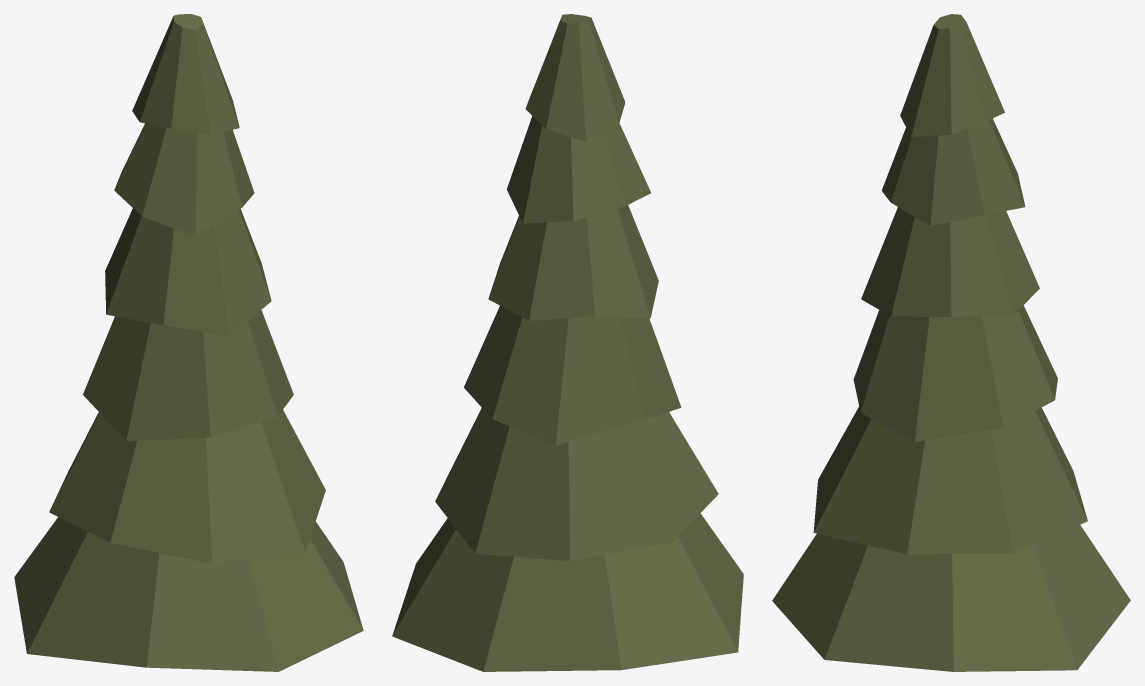
Rendered from tree.fbx.
3 renders of one model, left to right at view 1: azimuth 30°, elevation 25°; view 2: azimuth 150°, elevation 25°; view 3: azimuth 270°, elevation 25°, orthographic.
Visible parts, largest first — view 1: Tree; view 2: Tree; view 3: Tree.
Part boxes in pixels (x1,y1,x2,y2): Tree: (14, 14, 363, 671); Tree: (392, 14, 743, 671); Tree: (772, 14, 1130, 671).
Size of the model in its own units: 434 by 812 by 428.
